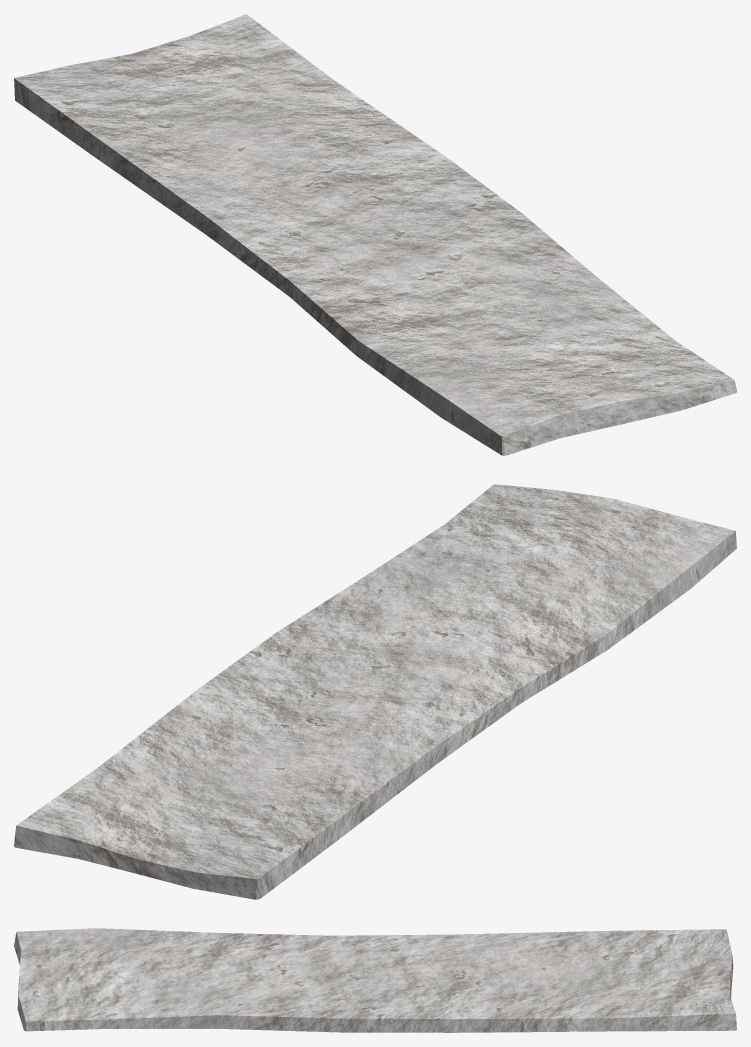
The model's file is tile1_LOD1.FBX.
3 renders of one model, top to bottom at view 1: azimuth 30°, elevation 25°; view 2: azimuth 150°, elevation 25°; view 3: azimuth 270°, elevation 25°, orthographic. The views are drawn at different scales.
Visible parts, largest first — view 1: tile1_LOD1; view 2: tile1_LOD1; view 3: tile1_LOD1.
Part boxes in pixels (x1,y1,x2,y2): tile1_LOD1: [14, 14, 736, 455]; tile1_LOD1: [14, 484, 736, 899]; tile1_LOD1: [14, 928, 736, 1032].
Size of the model in its own units: 51.54 by 4.79 by 174.
